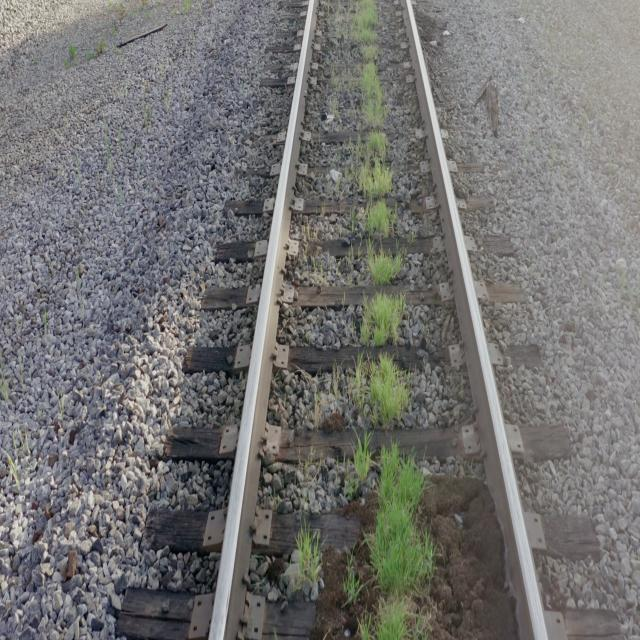Plant: (360, 444, 435, 640), (358, 356, 410, 429), (359, 129, 395, 233), (360, 293, 405, 347), (291, 531, 321, 589), (361, 60, 386, 127), (369, 249, 402, 284), (342, 558, 361, 604), (355, 0, 378, 36), (355, 436, 371, 482)
